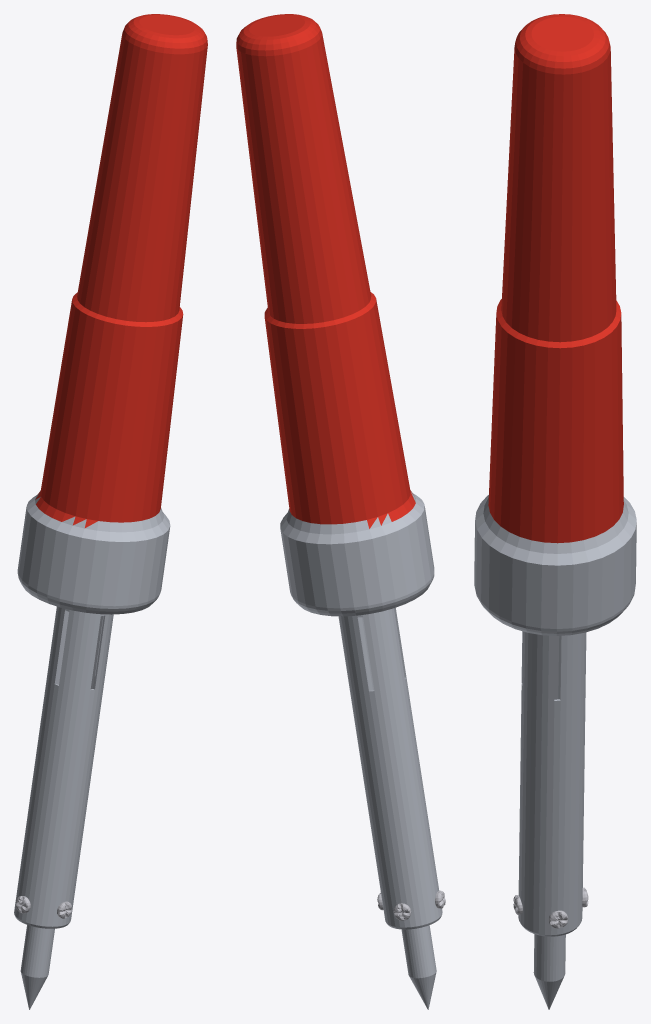
File: iron-pro.glb
3 renders of one model, left to right at view 1: azimuth 30°, elevation 25°; view 2: azimuth 150°, elevation 25°; view 3: azimuth 270°, elevation 25°, orthographic. The views are drawn at different scales.
Visible parts, largest first — view 1: Soldering_Iron_Cylinder, Soldering_Iron_Cylinder_steel; view 2: Soldering_Iron_Cylinder, Soldering_Iron_Cylinder_steel, Sphere.003; view 3: Soldering_Iron_Cylinder, Soldering_Iron_Cylinder_steel, Sphere.003.
Boxes of the visible parts, bbox=[...] form: Soldering_Iron_Cylinder: bbox=[35, 14, 207, 527]; Soldering_Iron_Cylinder_steel: bbox=[14, 493, 170, 1009]; Soldering_Iron_Cylinder: bbox=[236, 14, 415, 528]; Soldering_Iron_Cylinder_steel: bbox=[280, 490, 442, 1009]; Sphere.003: bbox=[377, 890, 445, 920]; Soldering_Iron_Cylinder: bbox=[488, 14, 623, 543]; Soldering_Iron_Cylinder_steel: bbox=[474, 495, 636, 1009]; Sphere.003: bbox=[513, 887, 588, 928].
Bounding box in the file's own units: 1.33 × 6.25 × 0.8707.
